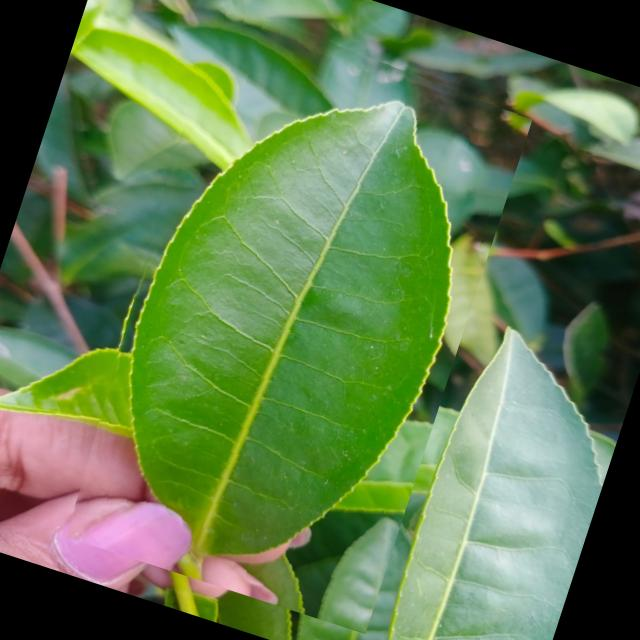Category D 7+ days, Not for Tea: (46, 0, 538, 634)
